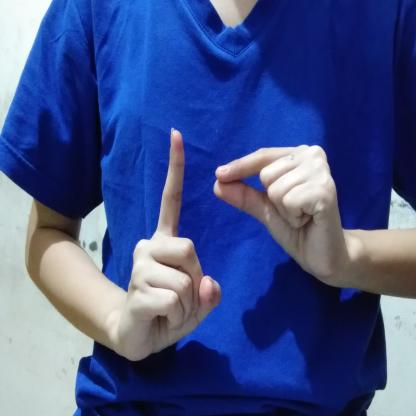son: (116, 122, 356, 368)
